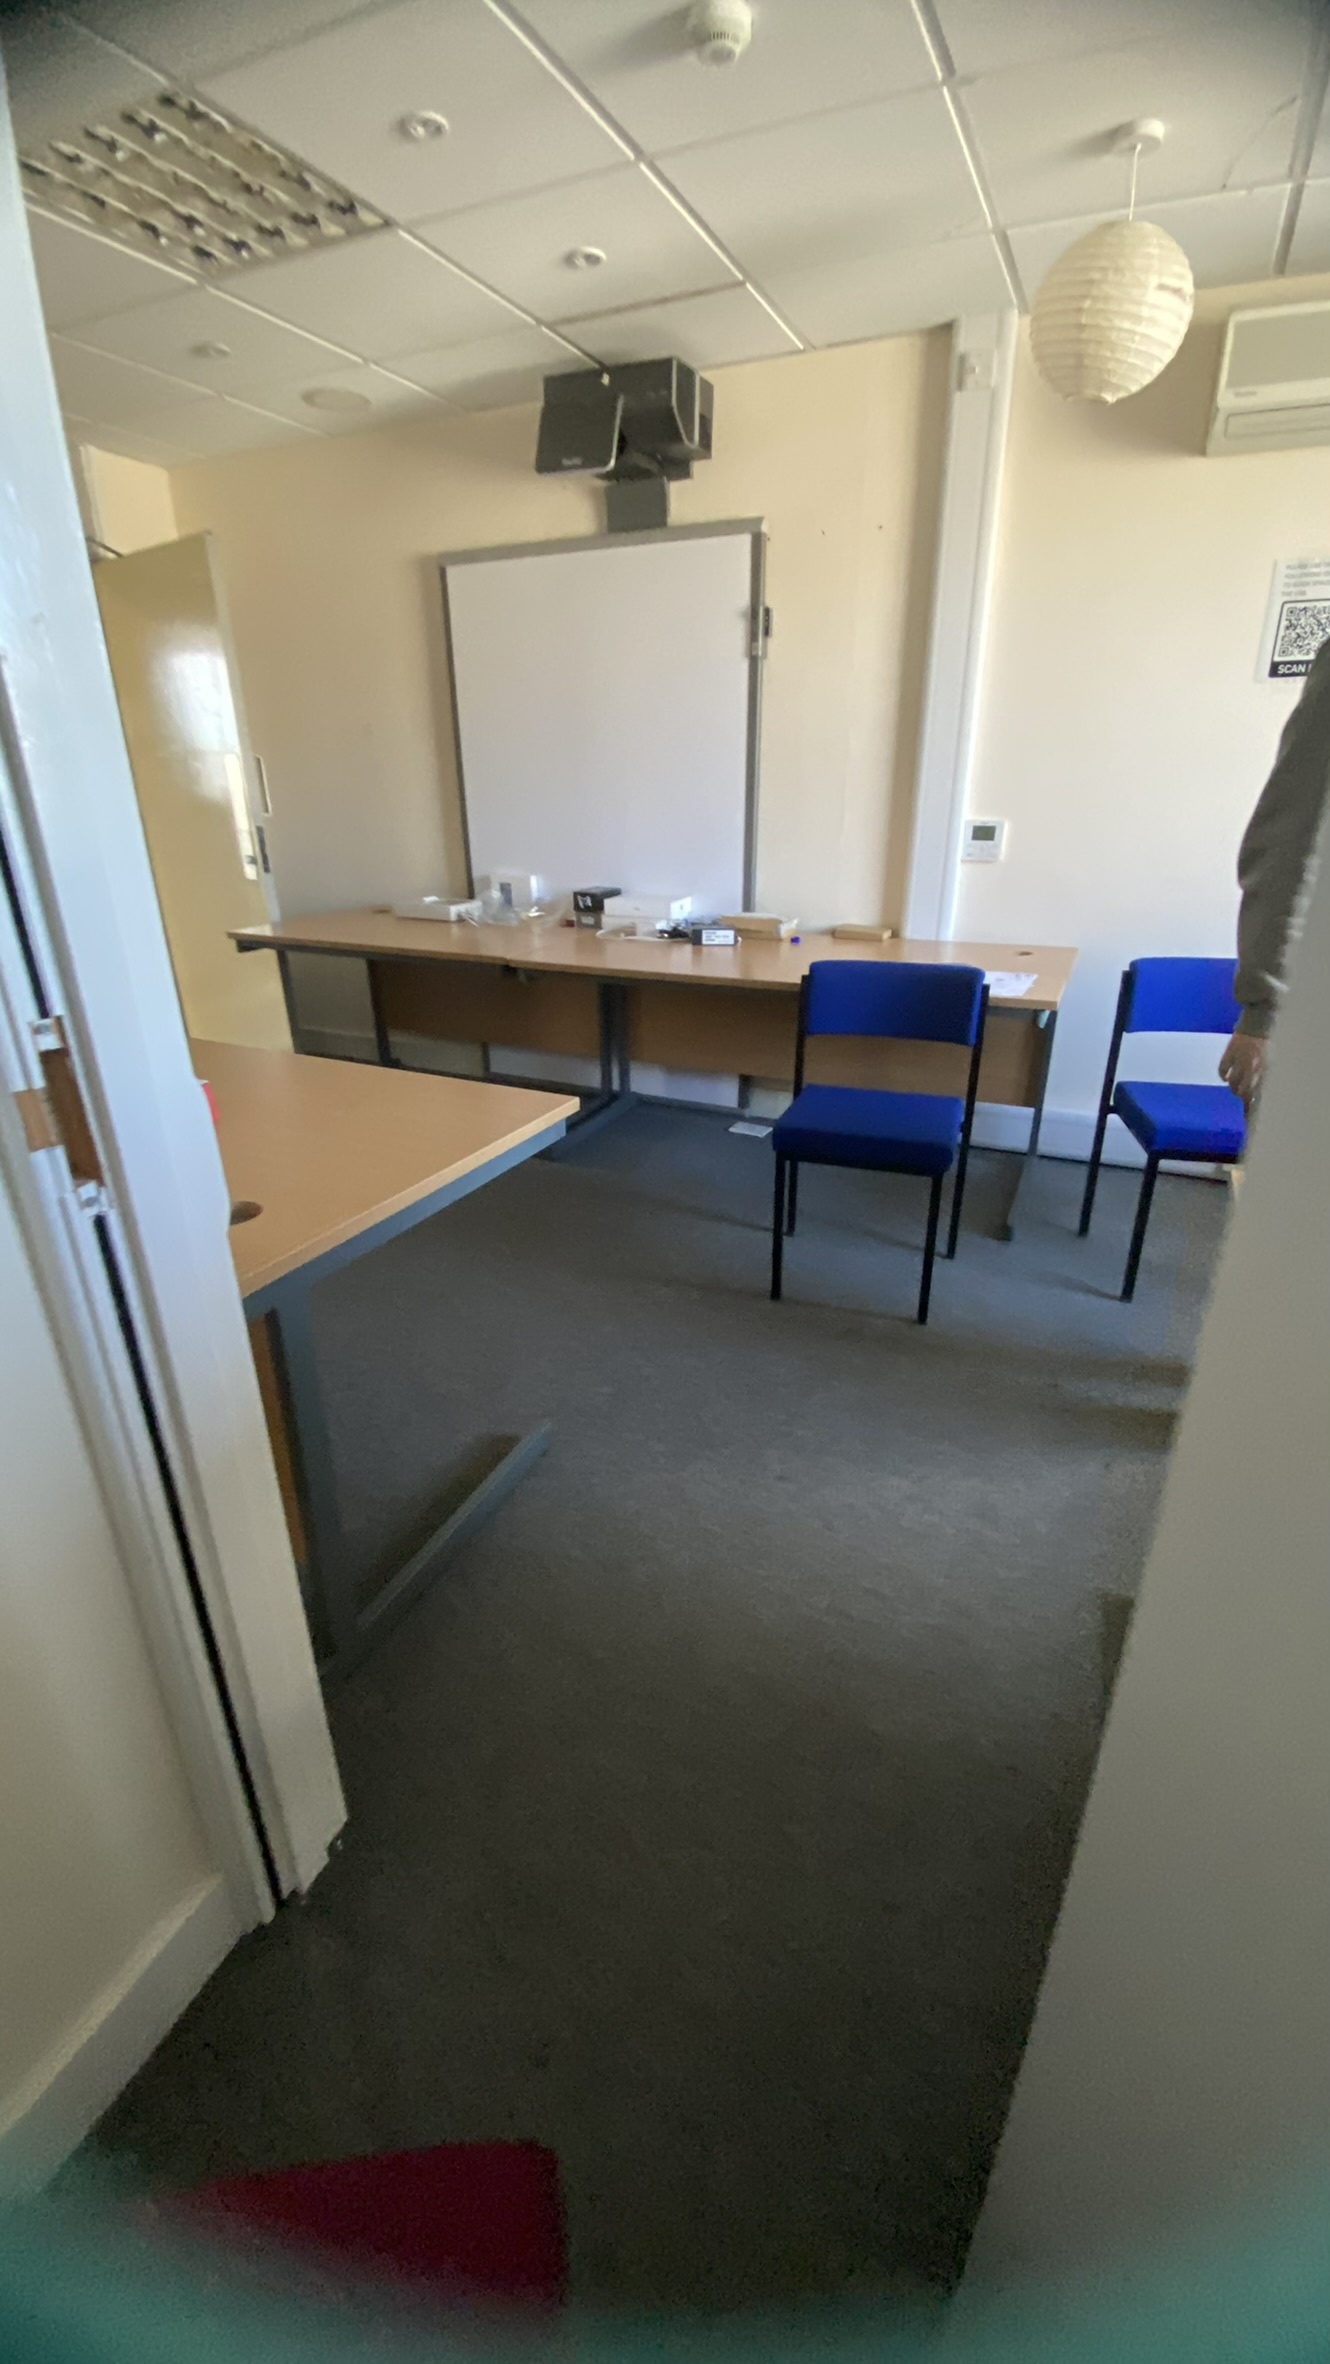chair: (736, 938, 991, 1328), (1106, 935, 1259, 1294)
door: (84, 516, 296, 1050)
whiteboard: (393, 524, 810, 901)
